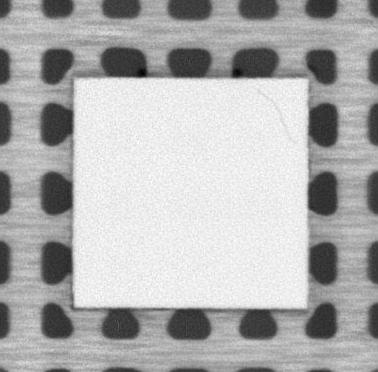DIE_CRACK: (258, 91, 298, 146)
